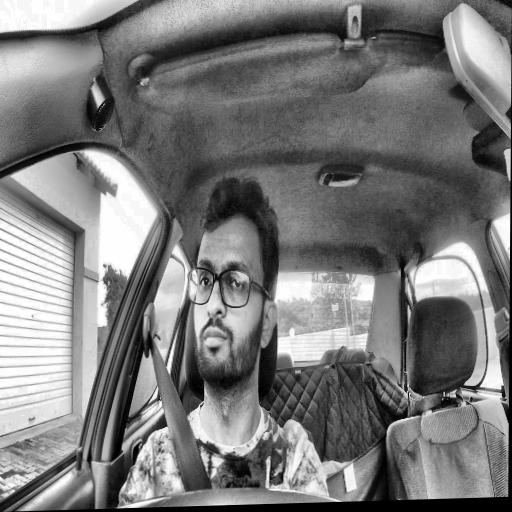awake: (184, 174, 279, 407)
